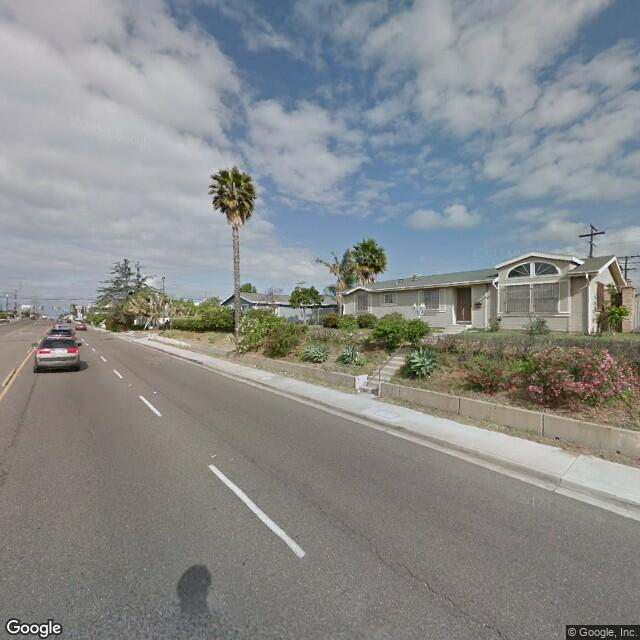litter: (144, 387, 161, 399)
